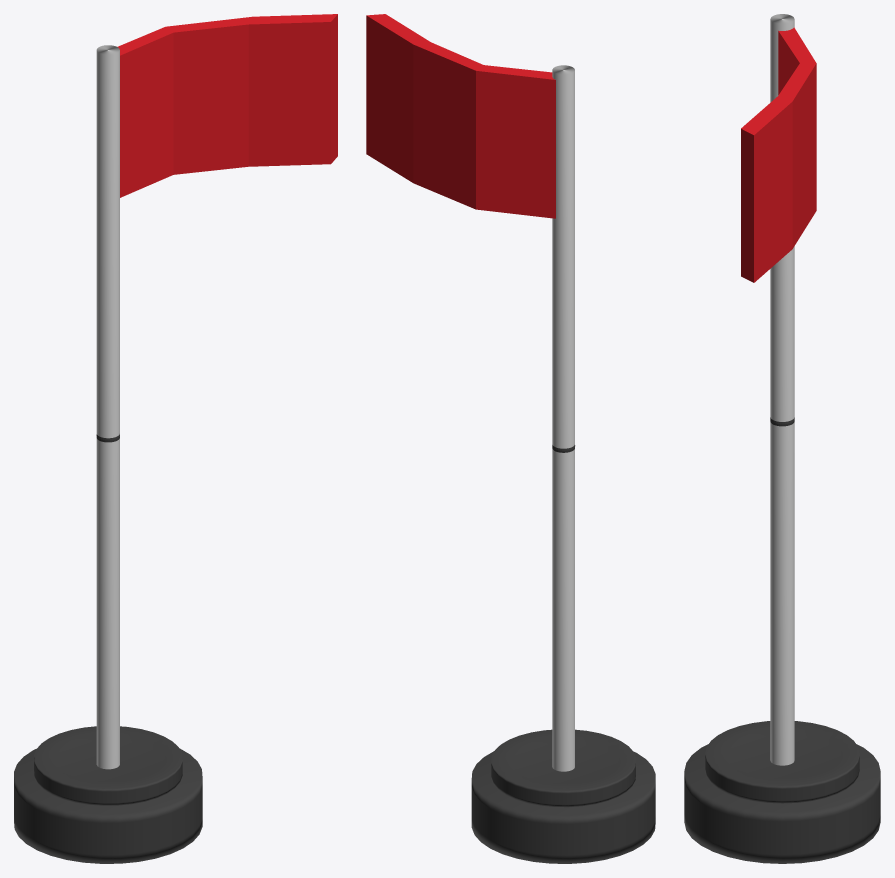
Rendered from flag-K2UxXGoS.glb.
The picture shows the model from 3 angles, left to right: view 1: azimuth 30°, elevation 25°; view 2: azimuth 150°, elevation 25°; view 3: azimuth 270°, elevation 25°; orthographic projection. The views are drawn at different scales.
Parts seen in each view (by area): view 1: Plane, Cylinder.002, Cylinder, Cylinder.001; view 2: Plane, Cylinder.002, Cylinder, Cylinder.001; view 3: Plane, Cylinder.002, Cylinder, Cylinder.001.
Boxes of the visible parts, x1,y1,x2,y2 form: Plane: (117, 14, 337, 197); Cylinder.002: (96, 45, 119, 769); Cylinder: (14, 748, 202, 863); Cylinder.001: (34, 726, 182, 805); Plane: (366, 14, 555, 218); Cylinder.002: (552, 65, 574, 771); Cylinder: (471, 751, 655, 863); Cylinder.001: (491, 729, 635, 807); Plane: (741, 27, 816, 282); Cylinder.002: (770, 14, 794, 765); Cylinder: (684, 744, 880, 863); Cylinder.001: (705, 721, 859, 803).
Bounding box in the file's own units: 3.64 × 9.04 × 2.
